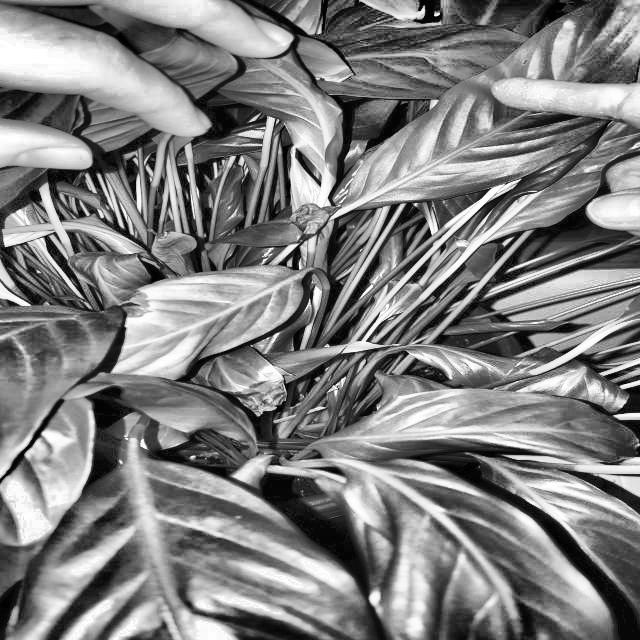plants: (0, 132, 600, 639), (103, 271, 318, 383)
